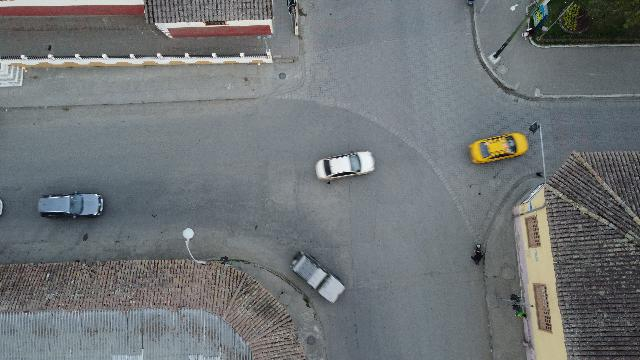Vehiculo: (290, 251, 345, 302), (315, 150, 375, 182), (468, 132, 528, 164), (38, 192, 104, 218)
